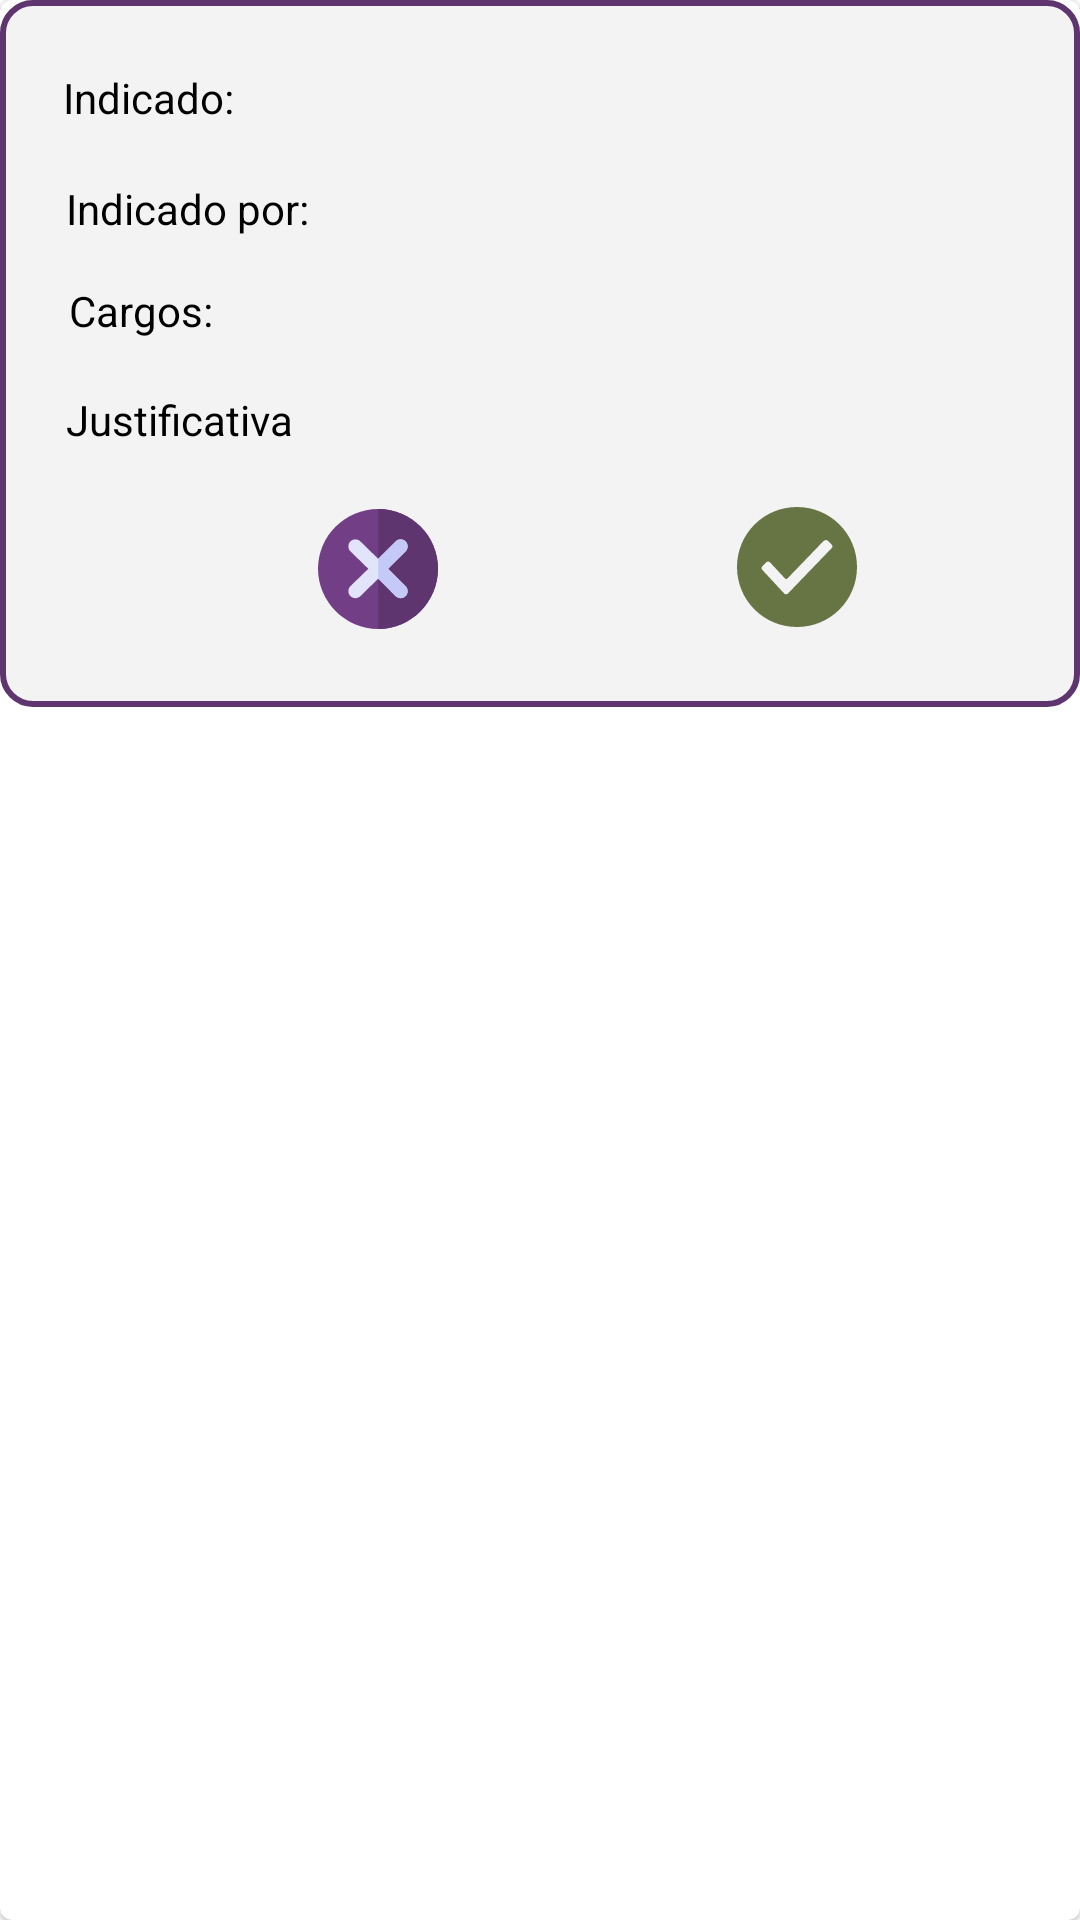

Named icons in this screenshot (1080px x 1920px) and their bounding boxes, (x1, y1, x2, y2):
checked: (737, 507, 857, 627)
quit: (318, 509, 438, 629)
